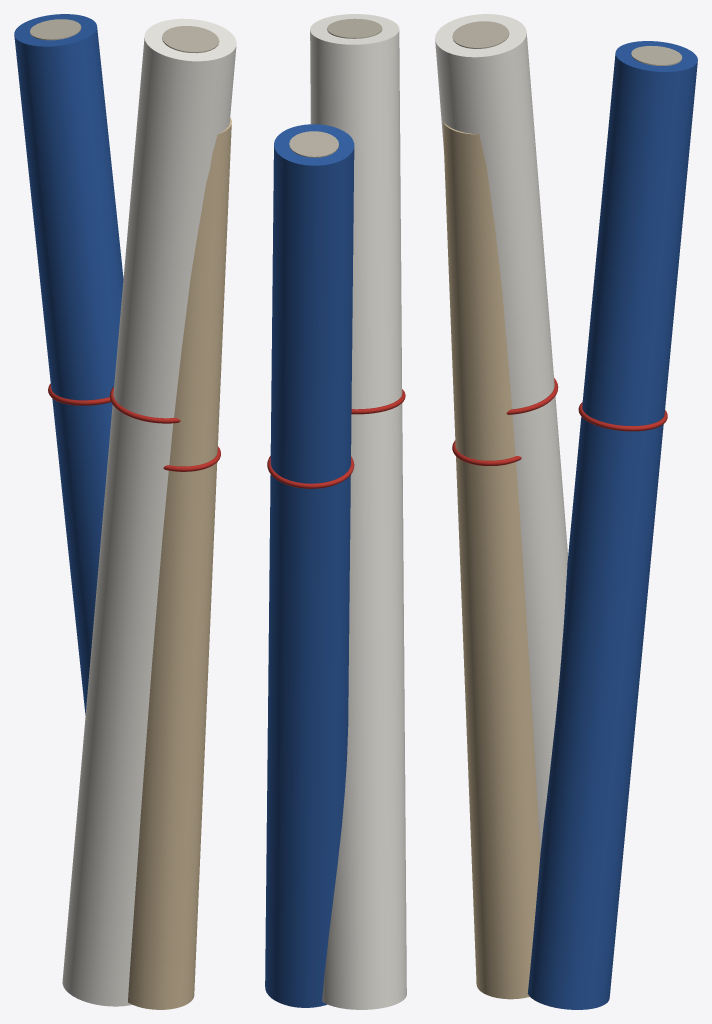
File: herodesk-arch-rolls.glb
The picture shows the model from 3 angles, left to right: view 1: azimuth 30°, elevation 25°; view 2: azimuth 150°, elevation 25°; view 3: azimuth 270°, elevation 25°; orthographic projection. The views are drawn at different scales.
Parts seen in each view (by area): view 1: herodesk-arch-rolls · mesh; view 2: herodesk-arch-rolls · mesh; view 3: herodesk-arch-rolls · mesh.
Boxes of the visible parts, x1,y1,x2,y2 form: herodesk-arch-rolls · mesh: (14,14,236,1009); herodesk-arch-rolls · mesh: (265,14,406,1009); herodesk-arch-rolls · mesh: (435,14,697,1009).
Size of the model in its own units: 0.0639 by 0.4619 by 0.1143.
